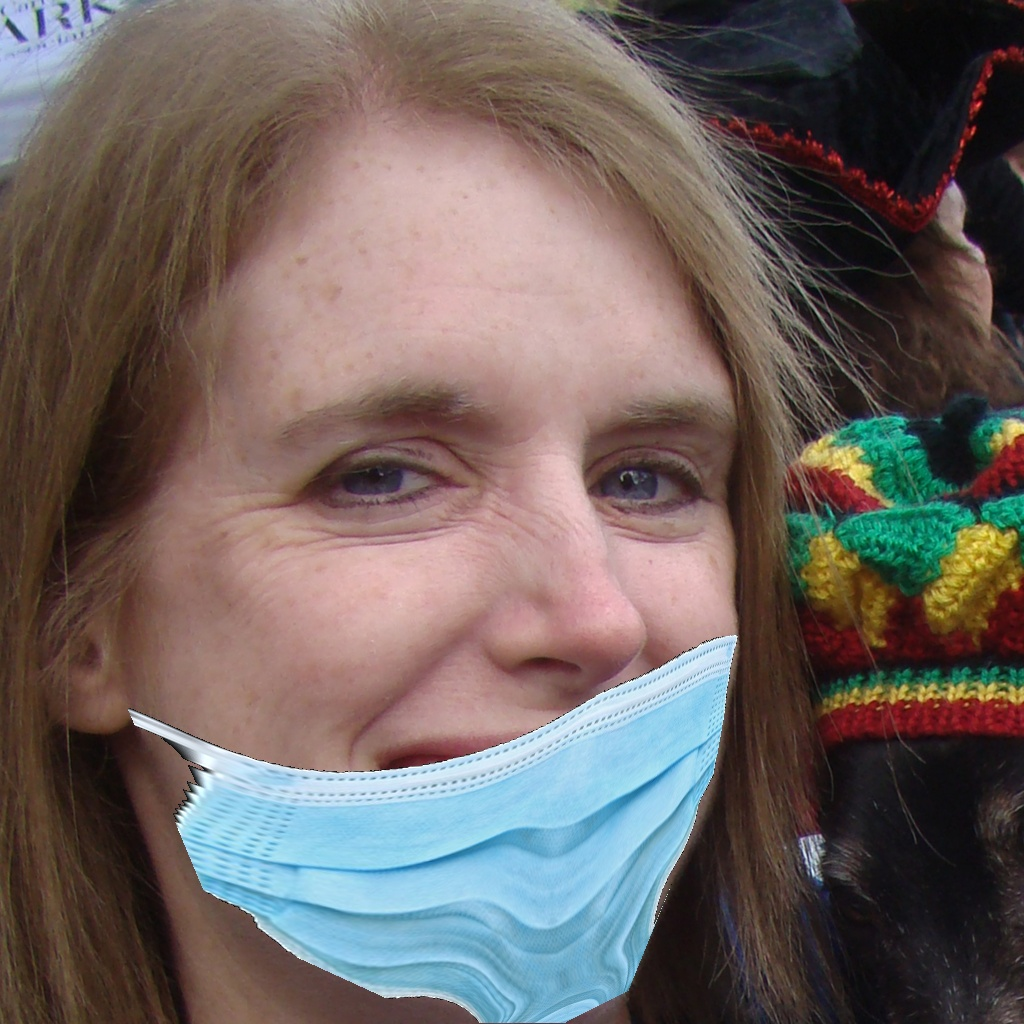mascarilla_mal_puesta: (147, 353, 759, 1015)
